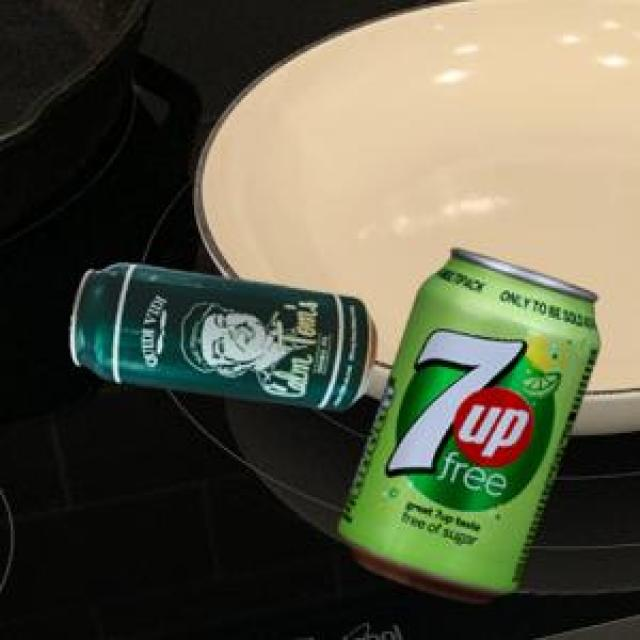logam: (336, 246, 596, 601), (67, 261, 372, 406)
